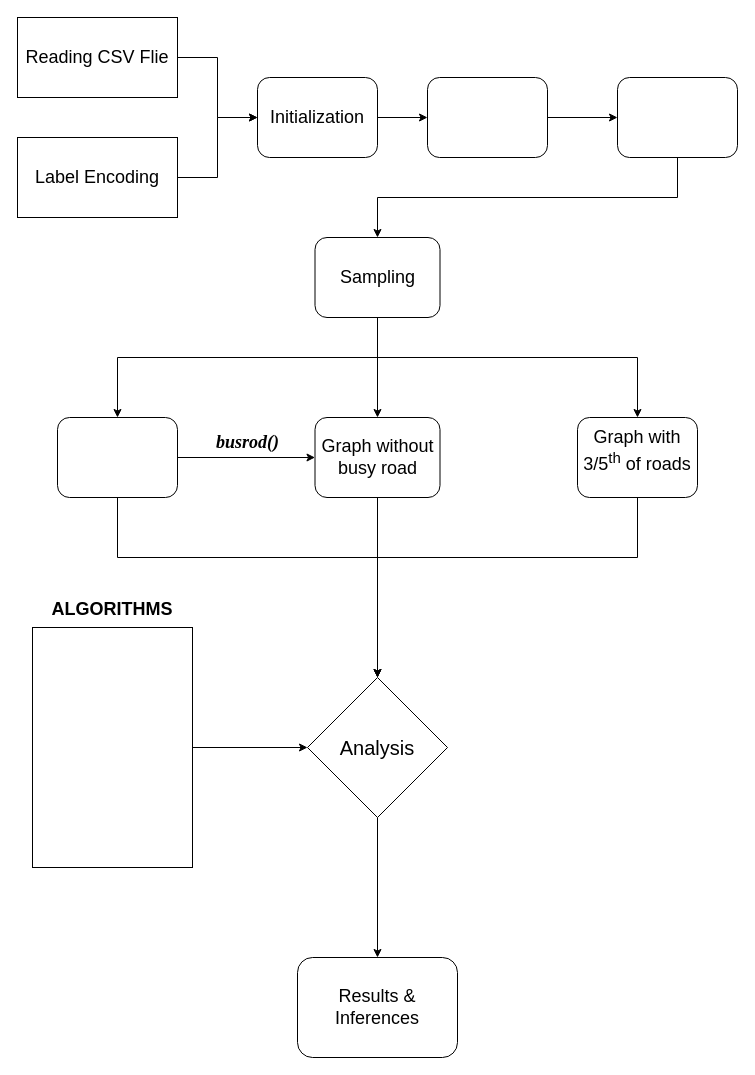
This 755x1075 diagram has some shape labels left out. Here are the shapes that lost their labels. From the top down, the box of each, then its label:
(426, 76, 548, 158): Graph Visualization
(616, 76, 738, 158): Labelling
(56, 416, 178, 498): Initialized graph
(32, 626, 192, 868): dismat() nxtnodli() lucacc() accshphos() busrod() moshos()
